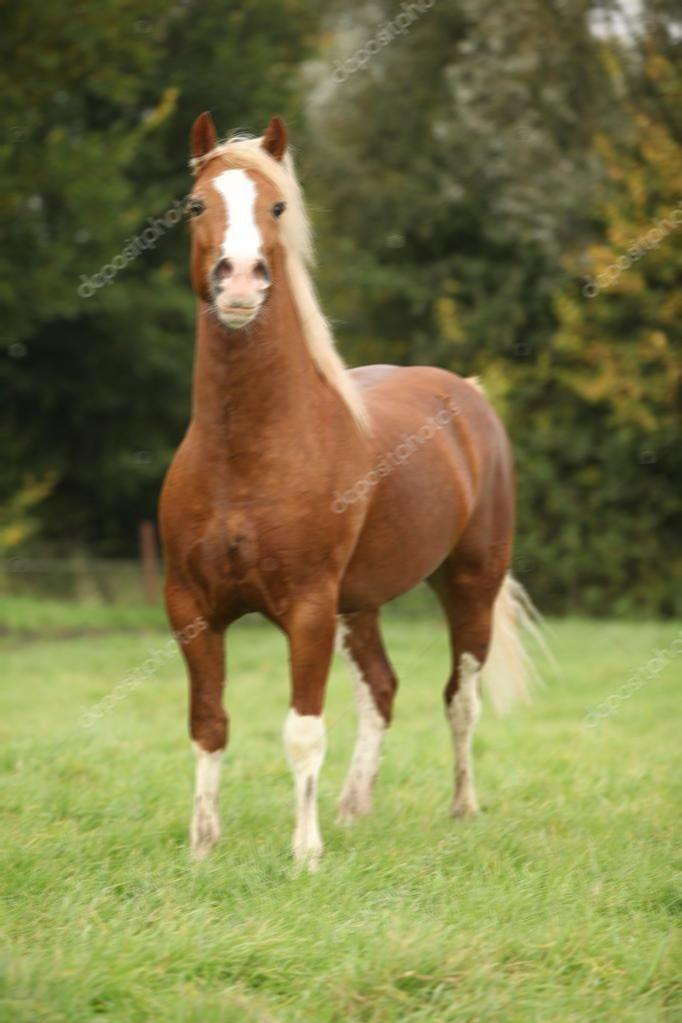horse: (138, 99, 557, 890)
